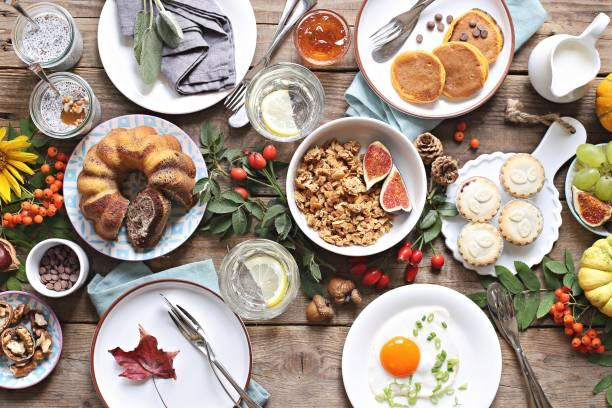Braised Crucian Carp: (64, 113, 207, 258), (340, 283, 506, 406), (353, 0, 513, 121), (286, 116, 424, 255), (436, 152, 564, 276)
